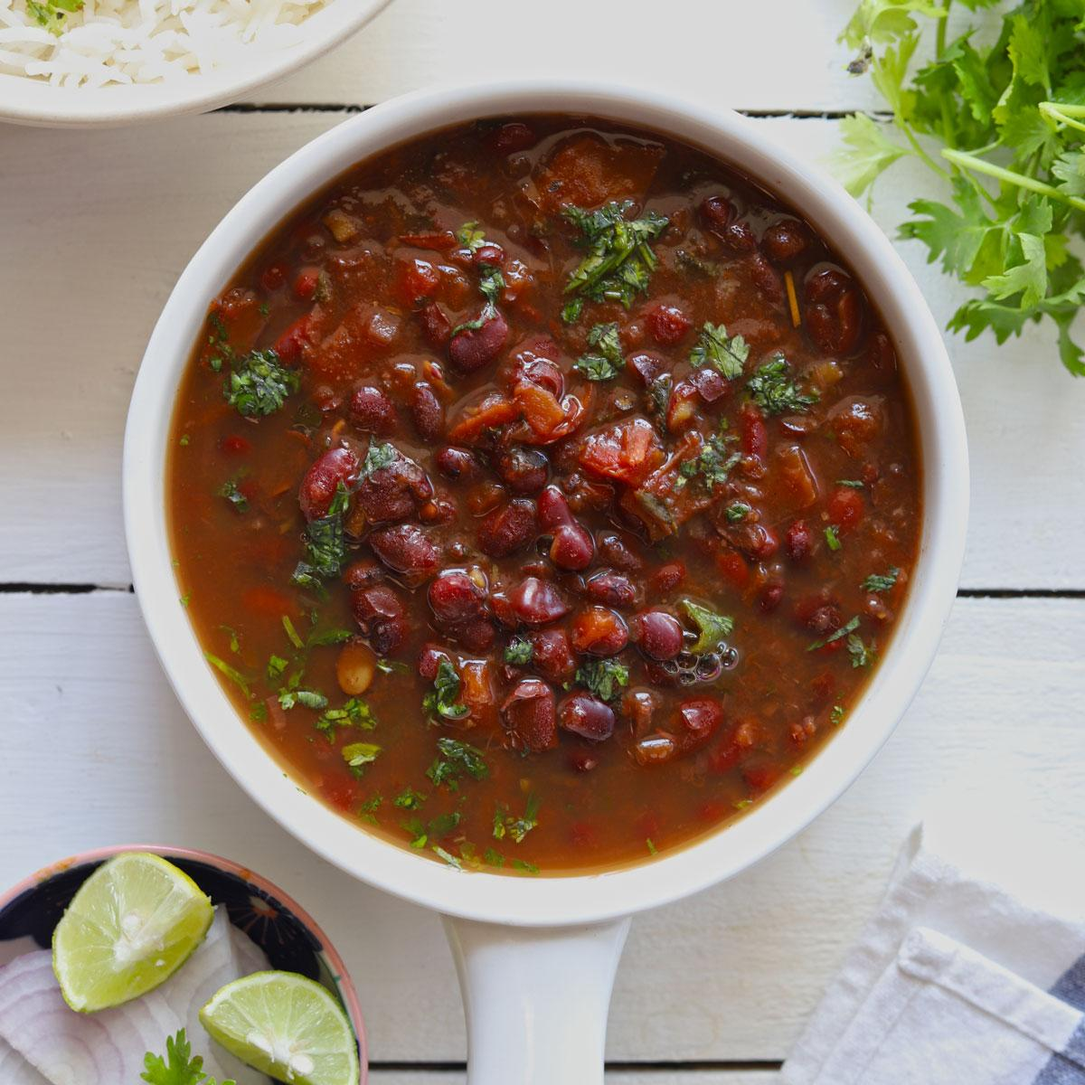rajma: (217, 109, 937, 880)
